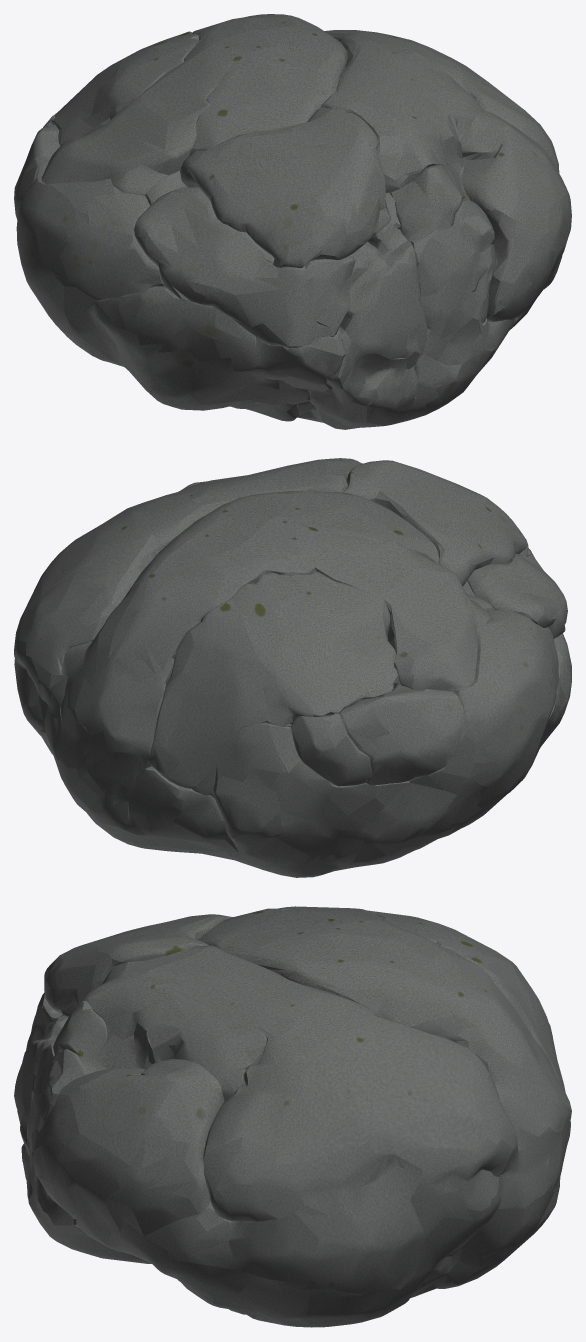
File: boulder.glb
The picture shows the model from 3 angles, top to bottom: view 1: azimuth 30°, elevation 25°; view 2: azimuth 150°, elevation 25°; view 3: azimuth 270°, elevation 25°; orthographic projection. The views are drawn at different scales.
Size of the model in its own units: 1.9 by 1.13 by 1.79.
1 material, 1 textured.
